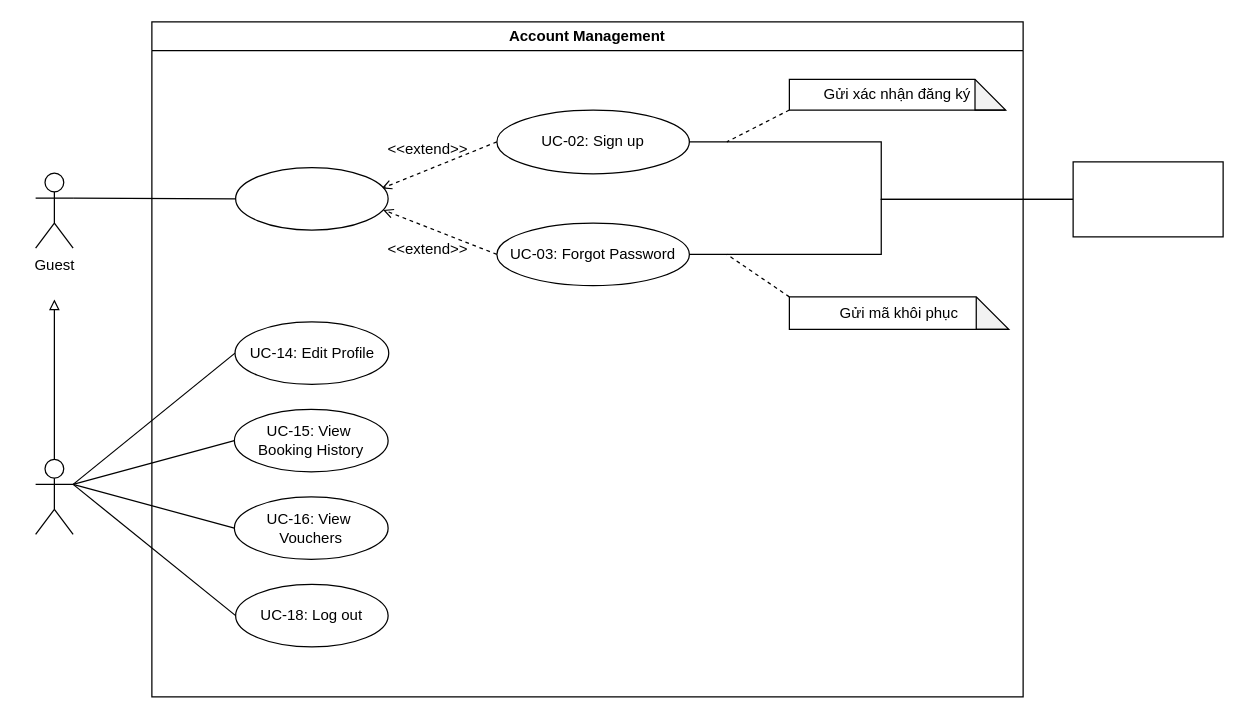
The diagram is 1245 pixels wide and 719 high, and some of its shapes have lost their labels. The shapes that lost their labels are listed below. From the top down, each one's centre as x and y in pixels, then its label:
At (311,198): "UC-01: Log in".
At (1147,199): "<<actor>> Notification Service".
At (53,496): "Customer".
